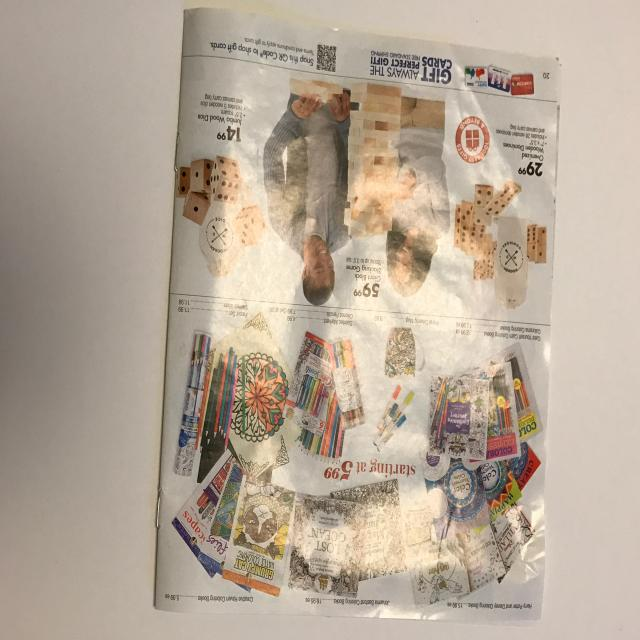paper: (145, 0, 569, 635)
